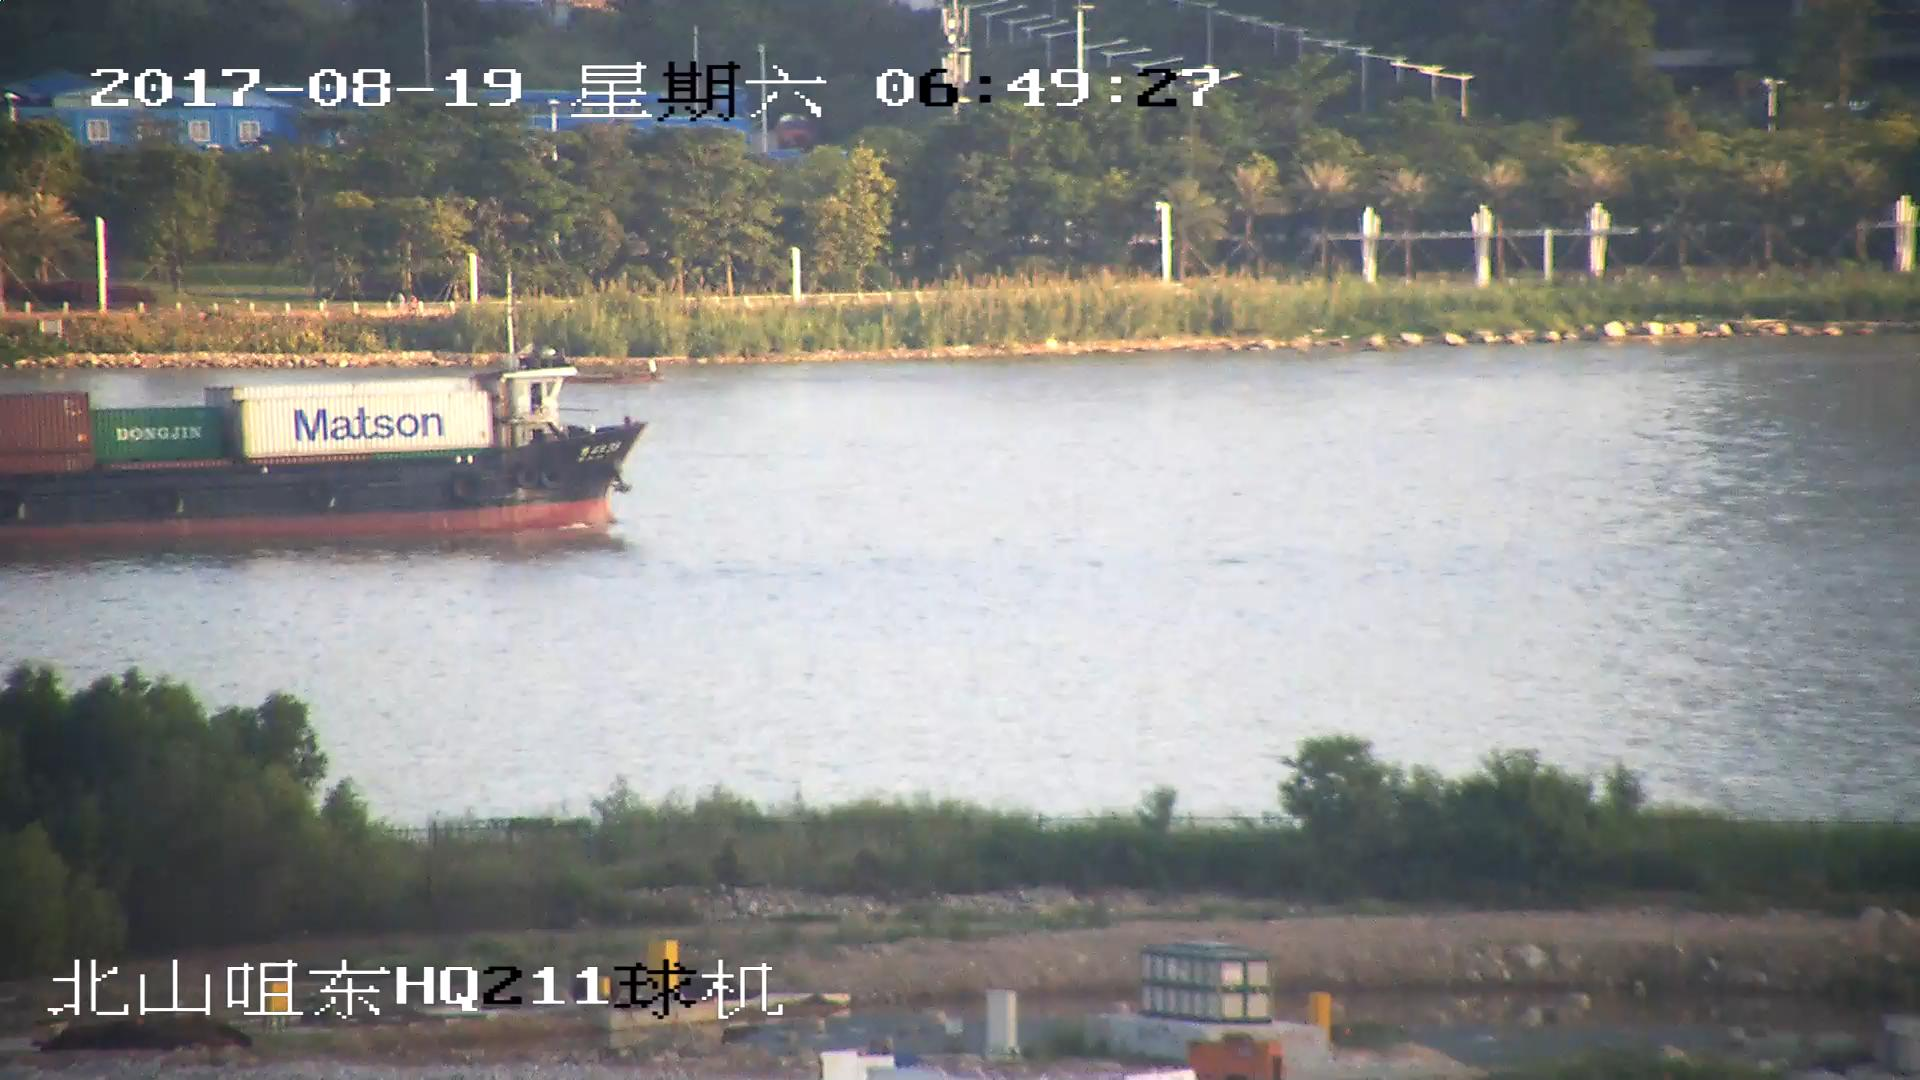container ship: (1, 284, 669, 539)
